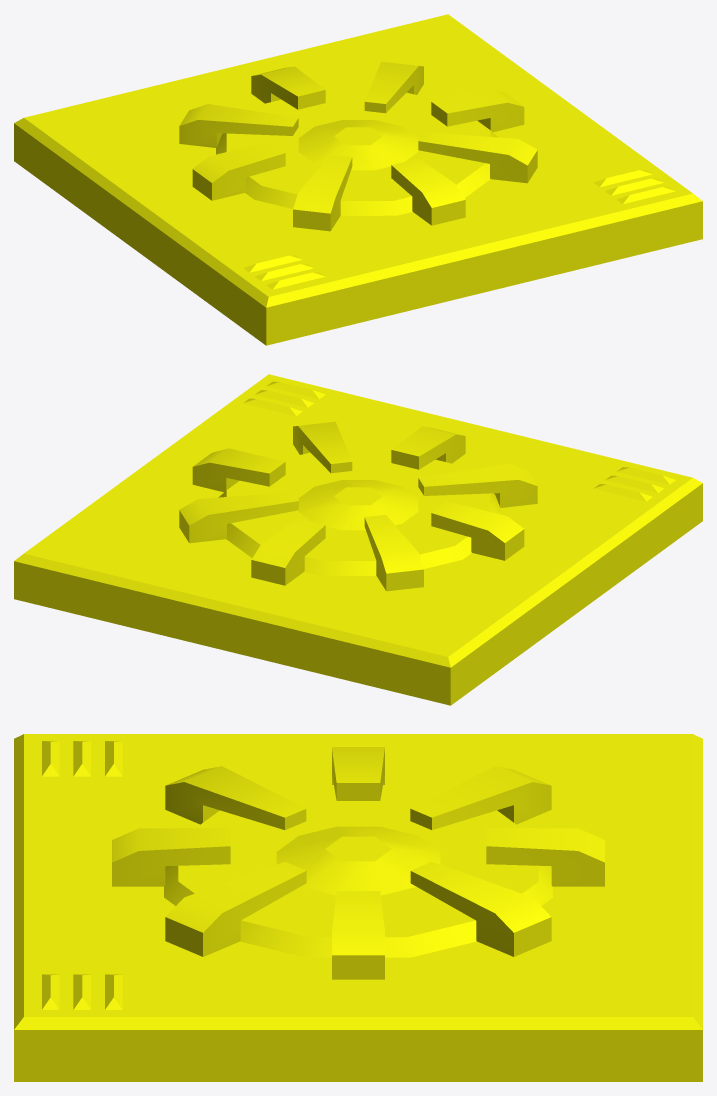
The model's file is kaykit-stove-single-countertop.glb.
3 renders of one model, top to bottom at view 1: azimuth 30°, elevation 25°; view 2: azimuth 150°, elevation 25°; view 3: azimuth 270°, elevation 25°, orthographic. The views are drawn at different scales.
Visible parts, largest first — view 1: stove_single_countertop; view 2: stove_single_countertop; view 3: stove_single_countertop.
Boxes of the visible parts, box(x1,y1,x2,y2) form: stove_single_countertop: box(14, 14, 702, 345); stove_single_countertop: box(14, 374, 702, 705); stove_single_countertop: box(14, 734, 702, 1081).
Bounding box in the file's own units: 1.75 × 0.2777 × 1.75.
